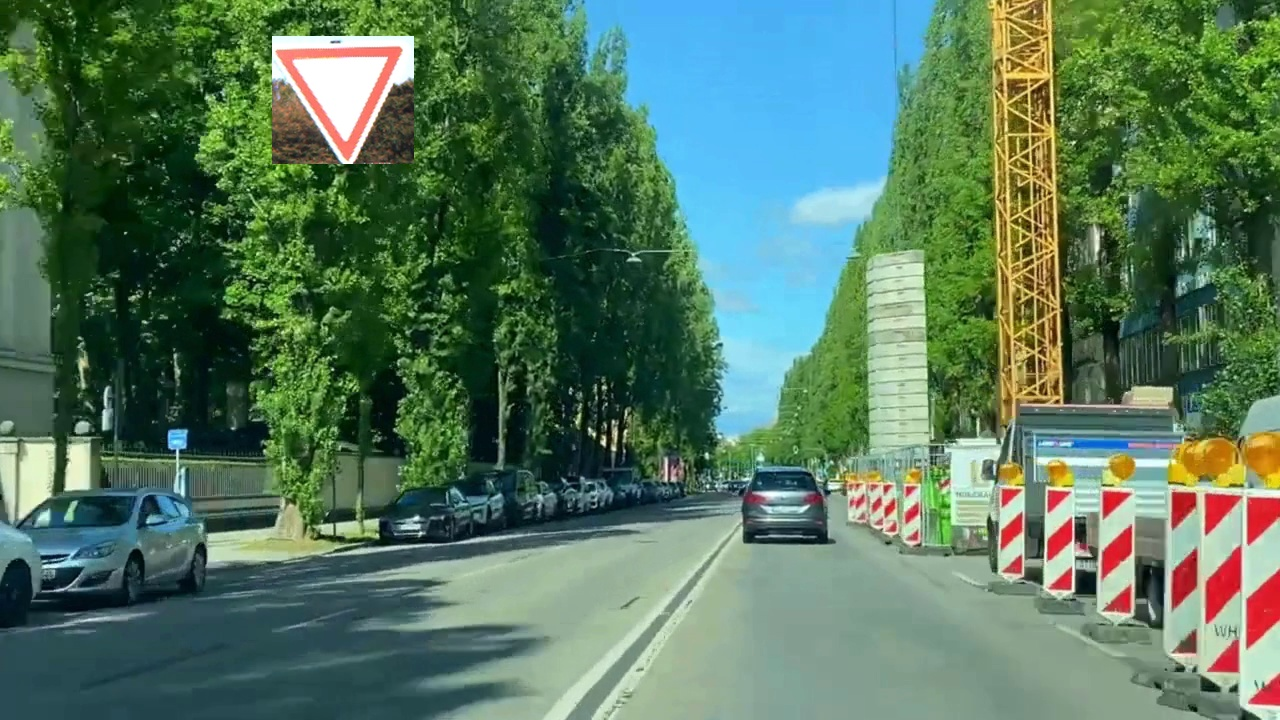Yield: (272, 36, 414, 164)
